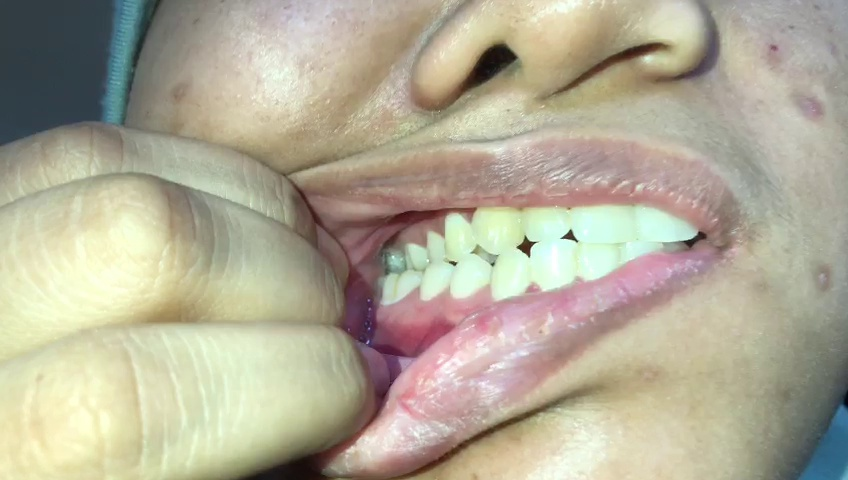1st Molar: (395, 270, 424, 307), (406, 241, 425, 268)
1st Premolar: (451, 257, 491, 299), (444, 211, 476, 258)
2nd Molar: (384, 246, 407, 270), (382, 270, 397, 305)
2nd Premolar: (420, 261, 453, 304), (427, 231, 444, 262)
Canine: (473, 199, 526, 256), (490, 249, 530, 304)
Lateral Incisor: (529, 236, 578, 292)
